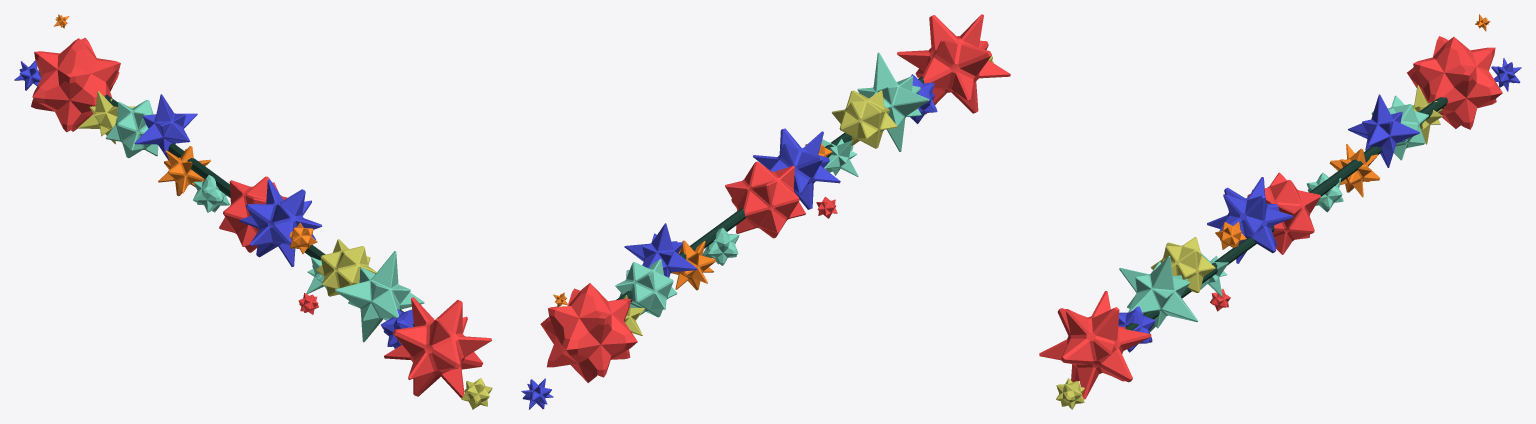
File: stick.fbx
3 renders of one model, left to right at view 1: azimuth 30°, elevation 25°; view 2: azimuth 150°, elevation 25°; view 3: azimuth 330°, elevation 25°, orthographic.
Parts seen in each view (by area): view 1: Sticks; view 2: Sticks; view 3: Sticks.
Boxes of the visible parts, left/top/right/bottom form: Sticks: left=14, top=14, right=492, bottom=409; Sticks: left=521, top=14, right=1010, bottom=409; Sticks: left=1039, top=14, right=1521, bottom=409.
Bounding box in the file's own units: 47.52 × 54.89 × 409.
